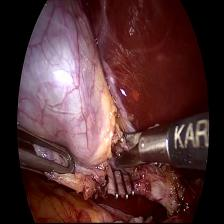Grasper: (16, 126, 78, 180)
Scissors: (114, 126, 180, 170)
